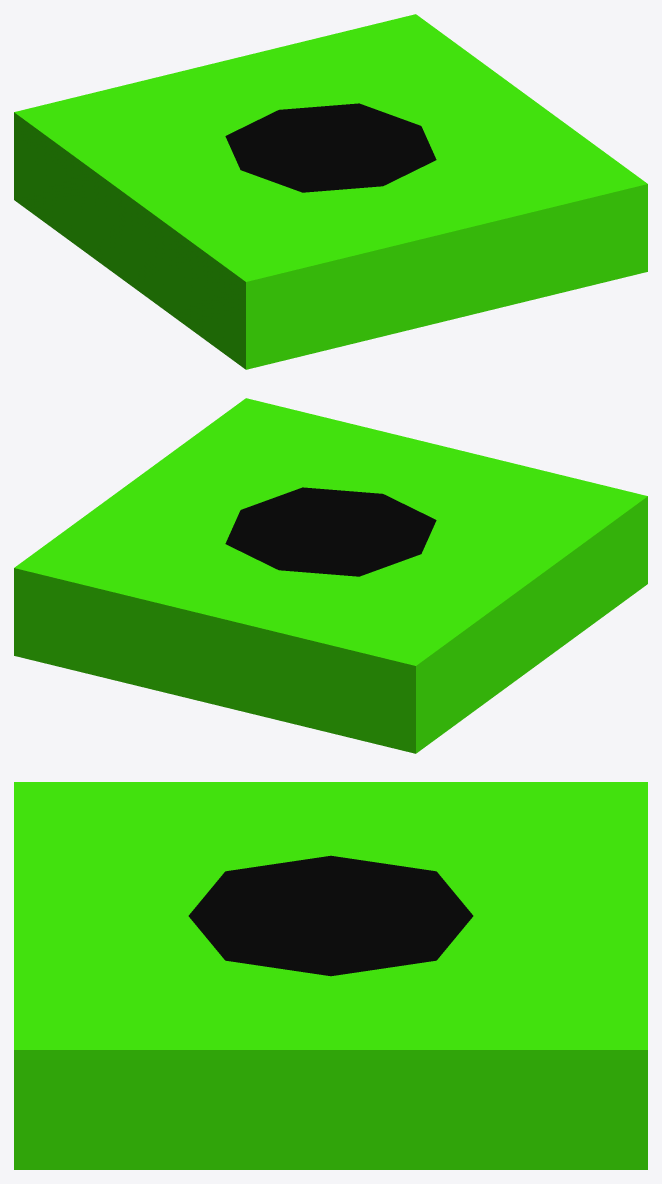
3 views of the same model, one above another, from view 1: azimuth 30°, elevation 25°; view 2: azimuth 150°, elevation 25°; view 3: azimuth 270°, elevation 25° (orthographic). The views are drawn at different scales.
Visible parts, largest first — view 1: Box.001; view 2: Box.001; view 3: Box.001.
Part boxes in pixels (x1,y1,x2,y2): Box.001: (14,14,647,369); Box.001: (14,398,647,753); Box.001: (14,782,647,1169).
Bounding box in the file's own units: 52.72 × 11.01 × 52.72.
